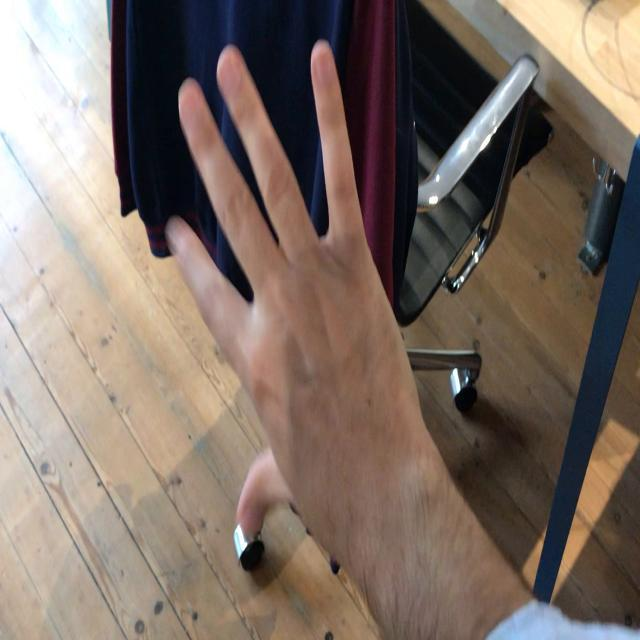no-gloves: (166, 38, 413, 540)
